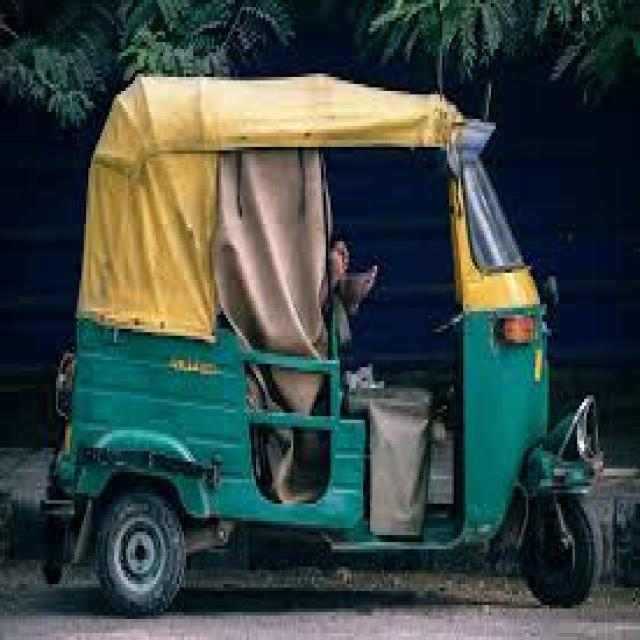tuktuk: (35, 45, 618, 634)
